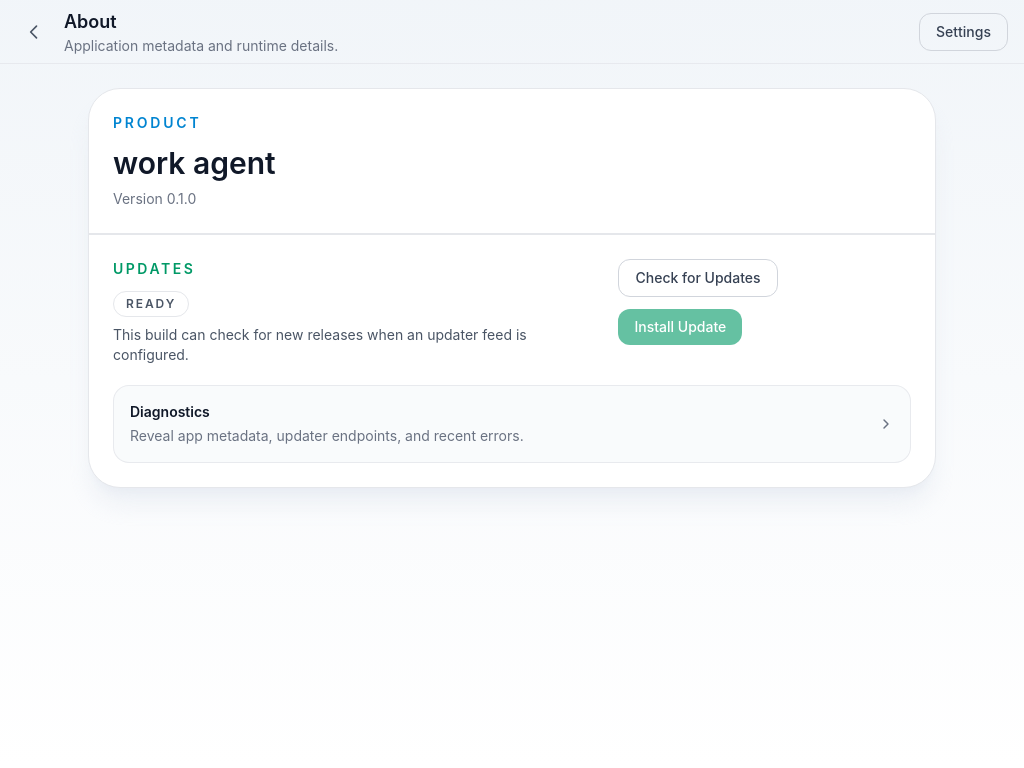
Test: AboutPage › shows the available version and enables install when an update is found
The width and height of the screenshot is (1024, 768).
Expected: the text "This build can check for new releases when an updater feed is configured." is shown, [113, 326, 527, 363]
Click the button "Check for Updates" at {"x": 698, "y": 278}, box [618, 259, 778, 297]
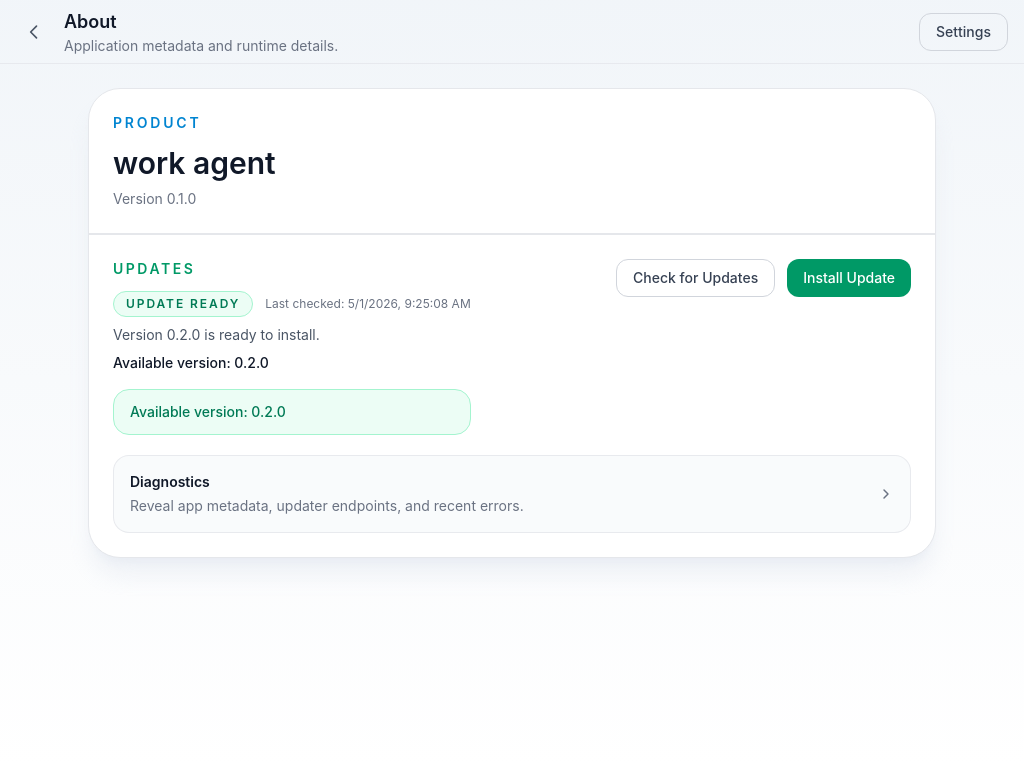
Result: the text "Available version: 0.2.0" is shown at [113, 354, 269, 371]
Result: the text "Update Ready" is shown at [113, 291, 253, 317]
Result: the button "Install Update" is enabled at [787, 259, 911, 297]
